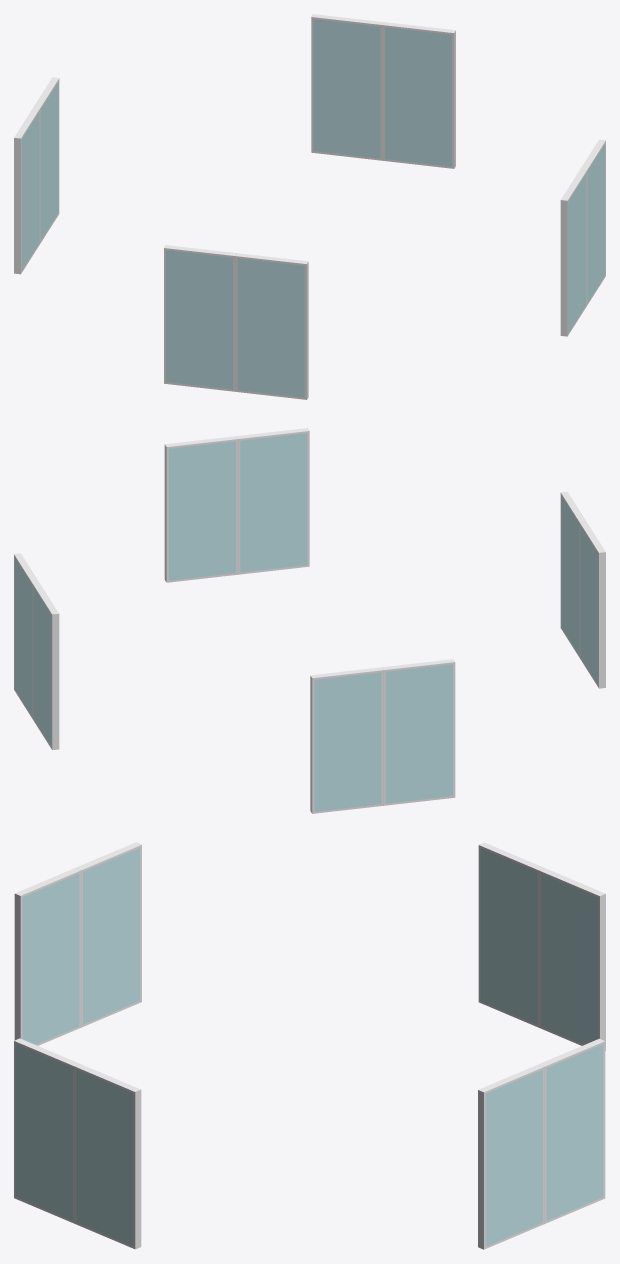
Rendered from Doors.fbx.
3 views of the same model, one above another, from view 1: azimuth 30°, elevation 25°; view 2: azimuth 150°, elevation 25°; view 3: azimuth 270°, elevation 25° (orthographic). The views are drawn at different scales.
Parts seen in each view (by area): view 1: DoorRight.003, DoorLeft.001, DoorRight.001, DoorLeft.003, DoorRight, DoorLeft.002, DoorRight.002, DoorLeft; view 2: DoorLeft, DoorRight.002, DoorLeft.002, DoorRight, DoorLeft.003, DoorRight.001, DoorLeft.001, DoorRight.003; view 3: DoorLeft, DoorRight.003, DoorLeft.001, DoorRight.002, DoorLeft.002, DoorLeft.003, DoorRight.001, DoorRight.
Part boxes in pixels (x1,y1,x2,y2): DoorRight.003: [382, 22, 455, 168]; DoorLeft.001: [235, 253, 308, 399]; DoorRight.001: [164, 245, 236, 391]; DoorLeft.003: [311, 14, 384, 160]; DoorRight: [560, 170, 586, 336]; DoorLeft.002: [14, 107, 40, 274]; DoorRight.002: [33, 77, 59, 243]; DoorLeft: [580, 139, 605, 305]; DoorLeft: [164, 436, 237, 582]; DoorRight.002: [310, 667, 383, 813]; DoorLeft.002: [382, 659, 455, 805]; DoorRight: [236, 428, 309, 574]; DoorLeft.003: [33, 583, 59, 749]; DoorRight.001: [580, 522, 605, 688]; DoorLeft.001: [560, 492, 586, 657]; DoorRight.003: [14, 553, 39, 719]; DoorLeft: [74, 1064, 141, 1249]; DoorRight.003: [478, 1064, 544, 1249]; DoorLeft.001: [14, 868, 81, 1045]; DoorRight.002: [539, 868, 605, 1051]; DoorLeft.002: [478, 842, 544, 1027]; DoorLeft.003: [539, 1038, 605, 1223]; DoorRight.001: [75, 842, 141, 1027]; DoorRight: [14, 1038, 79, 1223].
Bounding box in the file's own units: 2372 × 696 × 2372.
Materials: 1 (1 with a texture image).
